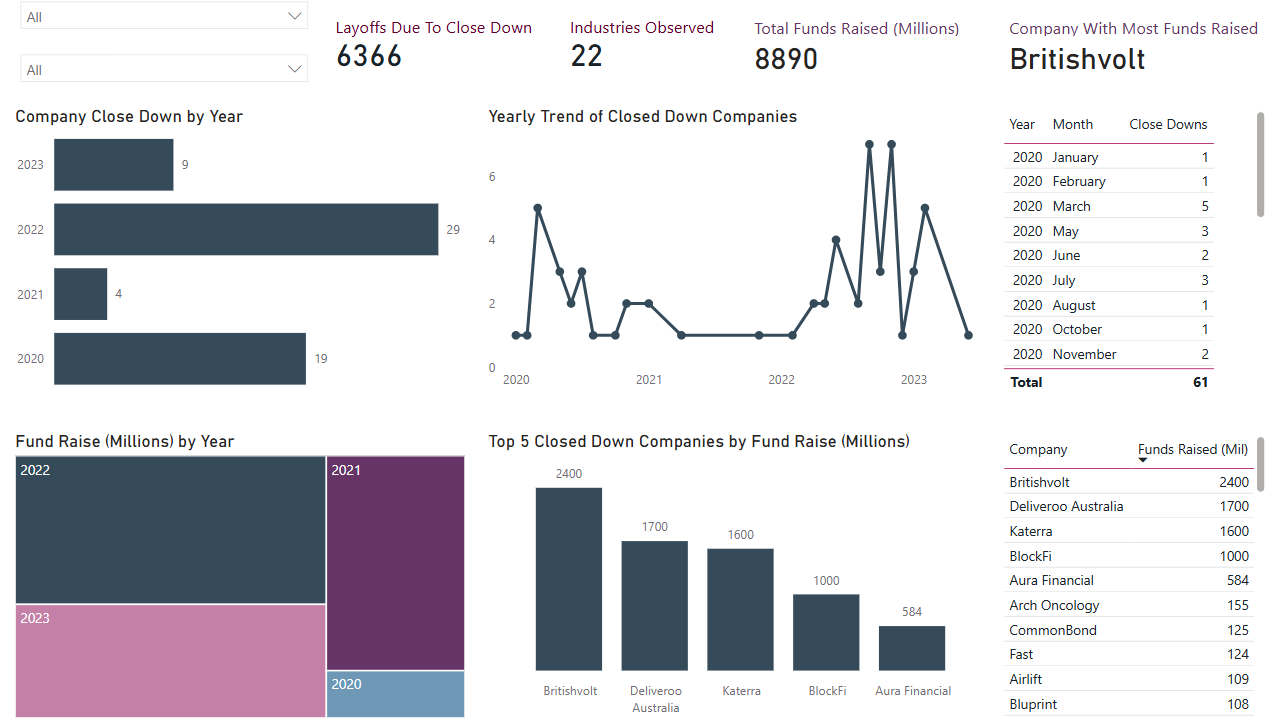

This screenshot's page, from the dashboard's own definition file:
{"tool":"powerbi","page":{"name":"Page 2","canvas":[1280,720],"ordinal":2},"visuals":[{"type":"lineChart","title":"Yearly Trend of Closed Down Companies","fields":{"Category":["layoffs_final.date.Variation.Date Hierarchy.Year","layoffs_final.date.Variation.Date Hierarchy.Month"],"Y":["CountNonNull(layoffs_final.company)"]},"box":[490.2,119.6,490.2,284],"z":0},{"type":"tableEx","fields":{"Values":["layoffs_final.date.Variation.Date Hierarchy.Year","layoffs_final.date.Variation.Date Hierarchy.Month","CountNonNull(layoffs_final.company)"]},"box":[991.1,119.6,264.6,284],"z":1000},{"type":"treemap","title":"Fund Raise (Millions) by Year","fields":{"Group":["layoffs_final.date.Variation.Date Hierarchy.Year","layoffs_final.date.Variation.Date Hierarchy.Month"],"Values":["Sum(layoffs_final.funds_raised_millions)"]},"box":[30.2,435.7,447.4,284],"z":2000},{"type":"tableEx","fields":{"Values":["layoffs_final.company","layoffs_final.funds_raised_millions"]},"box":[991.1,435.7,264.6,284],"z":3000},{"type":"clusteredColumnChart","title":"Top 5 Closed Down Companies by Fund Raise (Millions)","fields":{"Category":["layoffs_final.company"],"Y":["Sum(layoffs_final.funds_raised_millions)"]},"box":[490.2,435.7,490.2,284],"z":4000},{"type":"slicer","fields":{"Values":["layoffs_final.date.Variation.Date Hierarchy.Year","layoffs_final.date.Variation.Date Hierarchy.Quarter","layoffs_final.date.Variation.Date Hierarchy.Month","layoffs_final.date.Variation.Date Hierarchy.Day"]},"box":[30.2,7.8,299.6,51.6],"z":5000},{"type":"slicer","fields":{"Values":["layoffs_final.industry"]},"box":[30.2,59.3,299.6,51.6],"z":6000},{"type":"barChart","title":"Company Close Down by Year","fields":{"Category":["layoffs_final.date.Variation.Date Hierarchy.Year"],"Y":["CountNonNull(layoffs_final.company)"]},"box":[30.2,119.6,447.4,284],"z":7000},{"type":"cardVisual","fields":{"Data":["Sum(layoffs_final.total_laid_off)","Count(layoffs_final.industry)"]},"box":[329.7,10.7,458.1,96.3],"z":8000},{"type":"textbox","box":[748.9,27.2,521.3,79.8],"z":9000},{"type":"textbox","box":[748.9,51.6,514.5,48.6],"z":10000}]}

Visuals, with their boxes in screenshot pixels (x1, y1, x2, y2), scaled from the page's 1280x720 canvas onto the 1286x723 screenshot:
"Yearly Trend of Closed Down Companies" lineChart: rect(492, 120, 985, 405)
tableEx - layoffs_final.date.Variation.Date Hierarchy.Year x layoffs_final.date.Variation.Date Hierarchy.Month: rect(996, 120, 1262, 405)
"Fund Raise (Millions) by Year" treemap: rect(30, 438, 480, 722)
tableEx - layoffs_final.company x layoffs_final.funds_raised_millions: rect(996, 438, 1262, 722)
"Top 5 Closed Down Companies by Fund Raise (Millions)" clusteredColumnChart: rect(492, 438, 985, 722)
slicer - layoffs_final.date.Variation.Date Hierarchy.Year x layoffs_final.date.Variation.Date Hierarchy.Quarter: rect(30, 8, 331, 60)
slicer - layoffs_final.industry: rect(30, 60, 331, 111)
"Company Close Down by Year" barChart: rect(30, 120, 480, 405)
cardVisual - Sum(layoffs_final.total_laid_off) x Count(layoffs_final.industry): rect(331, 11, 791, 107)
textbox: rect(752, 27, 1276, 107)
textbox: rect(752, 52, 1269, 101)
